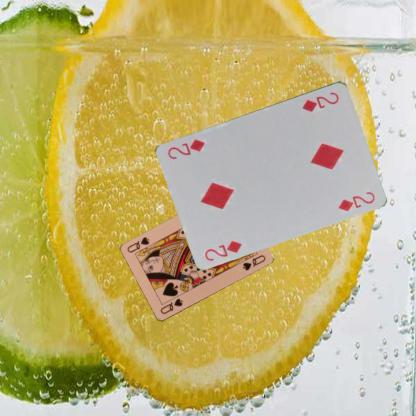2d: (202, 237, 243, 262), (300, 89, 340, 113)
Qs: (158, 296, 184, 315)
